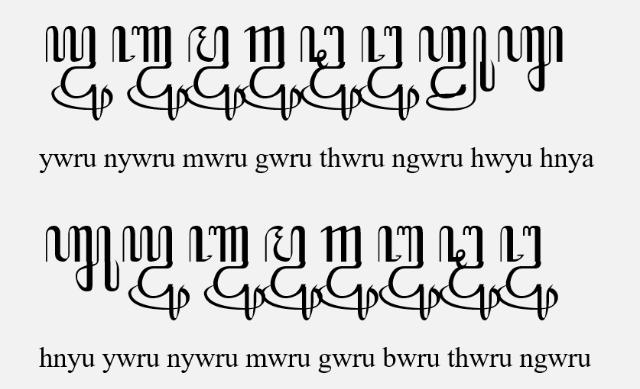bwru: (378, 226, 442, 322)
gwru: (317, 225, 378, 321), (242, 24, 302, 120)
hny: (498, 26, 564, 92)
hnyu: (46, 225, 120, 293)
hwyu: (418, 25, 496, 111)
mwru: (186, 24, 246, 121), (262, 226, 322, 322)
ngwru: (497, 226, 559, 321), (358, 24, 419, 120)
nywru: (188, 225, 266, 321), (112, 25, 188, 121)
thwru: (300, 24, 362, 121), (438, 226, 500, 322)
ywru: (44, 25, 114, 121), (122, 226, 190, 322)
